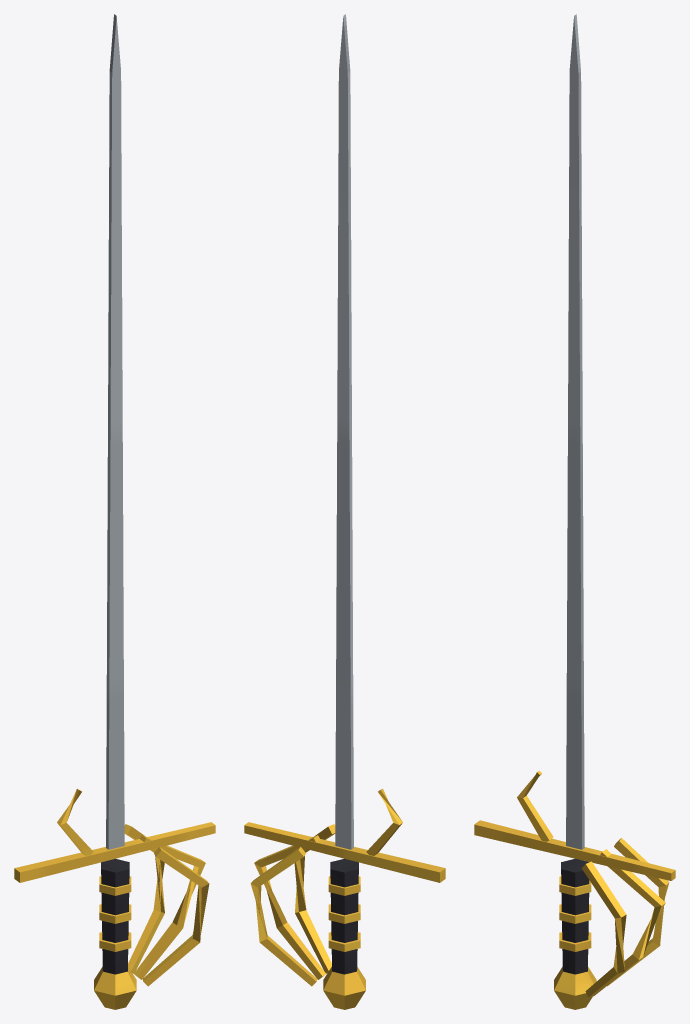
File: SM_Prop_GildedRapier_HQ.glb
3 renders of one model, left to right at view 1: azimuth 30°, elevation 25°; view 2: azimuth 150°, elevation 25°; view 3: azimuth 330°, elevation 25°, orthographic.
Visible parts, largest first — view 1: SM_Prop_GildedRapier_HQ; view 2: SM_Prop_GildedRapier_HQ; view 3: SM_Prop_GildedRapier_HQ.
Part boxes in pixels (left/top/right/bottom): SM_Prop_GildedRapier_HQ: left=14, top=14, right=215, bottom=1009; SM_Prop_GildedRapier_HQ: left=244, top=14, right=445, bottom=1009; SM_Prop_GildedRapier_HQ: left=474, top=14, right=675, bottom=1009.
Bounding box in the file's own units: 0.22 × 1.06 × 0.0936.
Materials: 1 (1 with a texture image).
